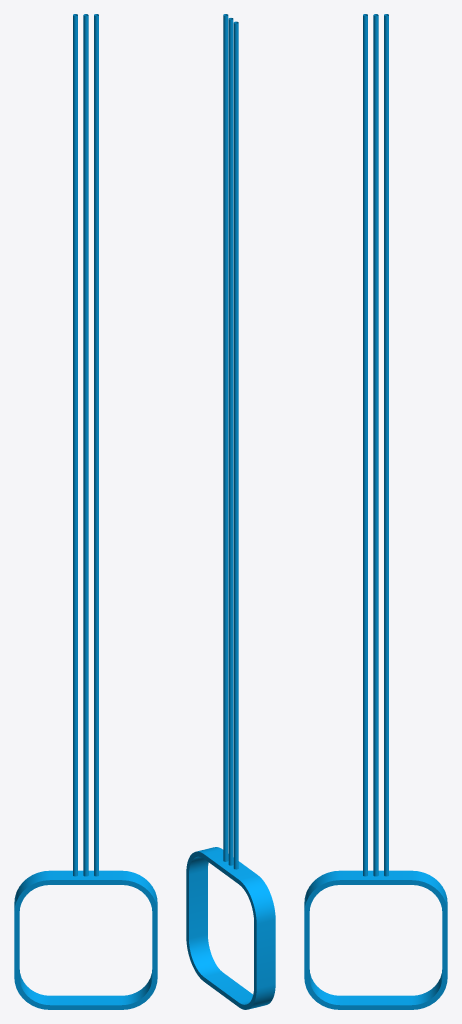
File: cutter4_roundcube.fbx
The picture shows the model from 3 angles, left to right: view 1: azimuth 90°, elevation 25°; view 2: azimuth 210°, elevation 25°; view 3: azimuth 270°, elevation 25°; orthographic projection.
Parts seen in each view (by area): view 1: Cutter4_Roundcube; view 2: Cutter4_Roundcube; view 3: Cutter4_Roundcube.
Boxes of the visible parts, left/top/right/bottom form: Cutter4_Roundcube: left=14, top=14, right=157, bottom=1009; Cutter4_Roundcube: left=186, top=14, right=275, bottom=1009; Cutter4_Roundcube: left=304, top=14, right=447, bottom=1009.
Bounding box in the file's own units: 16.81 × 824 × 108.
